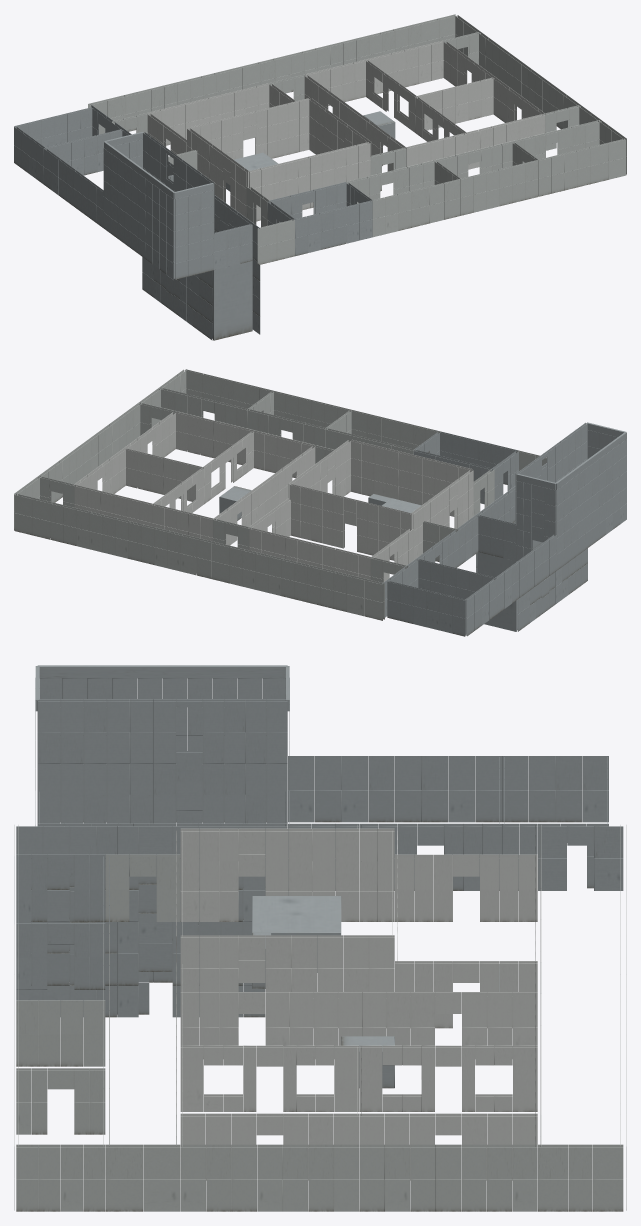
File: WC_B4_Walls.fbx
3 views of the same model, one above another, from view 1: azimuth 30°, elevation 25°; view 2: azimuth 150°, elevation 25°; view 3: azimuth 270°, elevation 25° (orthographic). The views are drawn at different scales.
Visible parts, largest first — view 1: WS_B4_WS_Steel_5_3, WS_B4_WS_Staff_0_3, WS_B4_WS_Staff_2_3, WS_B4_WS_Steel_5_2, WS_B4_WS_Staff_1_3, WS_B4_WS_Steel_5_0, WS_B4_WS_Steel_4_3, WS_B4_WS_Staff_0_0, WS_B4_WS_Clean_2_1, WS_B4_WS_Clean_3_1, WS_B4_WS_Clean_1_0, WS_B4_WS_Steel_3_3 (+27 smaller); view 2: WS_B4_WS_Steel_5_2, WS_B4_WS_Steel_5_3, WS_B4_WS_Steel_5_0, WS_B4_WS_Staff_0_0, WS_B4_WS_Staff_0_3, WS_B4_WS_Staff_2_0, WS_B4_WS_Staff_4_0, WS_B4_WS_Clean_2_1, WS_B4_WS_Clean_3_2, WS_B4_WS_Clean_2_2, WS_B4_WS_Staff_1_3, WS_B4_WS_Clean_3_1 (+27 smaller); view 3: WS_B4_WS_Steel_5_3, WS_B4_WS_Steel_4_3, WS_B4_WS_Steel_5_2, WS_B4_WS_Clean_2_2, WS_B4_WS_Clean_2_1, WS_B4_WS_Clean_4_1, WS_B4_WS_Staff_0_3, WS_B4_WS_Staff_0_0, WS_B4_WS_Steel_5_1, WS_B4_WS_Staff_0_2, WS_B4_WS_Clean_4_2, WS_B4_WS_Steel_5_0 (+18 smaller).
Part boxes in pixels (<box>): WS_B4_WS_Steel_5_3: <box>104,141,252,340</box>; WS_B4_WS_Staff_0_3: <box>522,105,626,193</box>; WS_B4_WS_Staff_2_3: <box>367,149,473,230</box>; WS_B4_WS_Steel_5_2: <box>96,132,175,311</box>; WS_B4_WS_Staff_1_3: <box>455,139,551,212</box>; WS_B4_WS_Steel_5_0: <box>14,110,110,189</box>; WS_B4_WS_Steel_4_3: <box>214,193,333,334</box>; WS_B4_WS_Staff_0_0: <box>380,14,502,79</box>; WS_B4_WS_Clean_2_1: <box>285,90,369,154</box>; WS_B4_WS_Clean_3_1: <box>220,103,288,159</box>; WS_B4_WS_Clean_1_0: <box>329,50,405,111</box>; WS_B4_WS_Steel_3_3: <box>301,182,372,246</box>; WS_B4_WS_Steel_5_2: <box>477,451,584,631</box>; WS_B4_WS_Steel_5_3: <box>547,422,626,608</box>; WS_B4_WS_Steel_5_0: <box>400,562,504,636</box>; WS_B4_WS_Staff_0_0: <box>14,461,91,548</box>; WS_B4_WS_Staff_0_3: <box>138,369,260,428</box>; WS_B4_WS_Staff_2_0: <box>167,519,250,586</box>; WS_B4_WS_Staff_4_0: <box>307,557,408,620</box>; WS_B4_WS_Clean_2_1: <box>234,468,313,540</box>; WS_B4_WS_Clean_3_2: <box>362,444,434,505</box>; WS_B4_WS_Clean_2_2: <box>275,440,361,504</box>; WS_B4_WS_Staff_1_3: <box>236,387,338,442</box>; WS_B4_WS_Clean_3_1: <box>311,489,379,555</box>; WS_B4_WS_Steel_5_3: <box>35,665,287,982</box>; WS_B4_WS_Steel_4_3: <box>14,813,175,1017</box>; WS_B4_WS_Steel_5_2: <box>176,666,314,934</box>; WS_B4_WS_Clean_2_2: <box>180,926,316,1058</box>; WS_B4_WS_Clean_2_1: <box>314,917,479,1058</box>; WS_B4_WS_Clean_4_1: <box>312,828,479,921</box>; WS_B4_WS_Staff_0_3: <box>14,1078,180,1211</box>; WS_B4_WS_Staff_0_0: <box>461,1081,626,1211</box>; WS_B4_WS_Steel_5_1: <box>314,756,474,822</box>; WS_B4_WS_Staff_0_2: <box>180,1115,333,1211</box>; WS_B4_WS_Clean_4_2: <box>180,828,312,921</box>; WS_B4_WS_Steel_5_0: <box>475,756,608,822</box>.
Bounding box in the file's own units: 5186 × 1740 × 3432.
